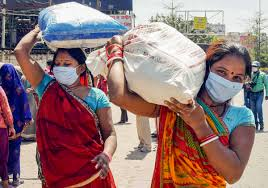mask: (206, 47, 244, 102), (52, 49, 81, 84), (252, 62, 261, 73)
